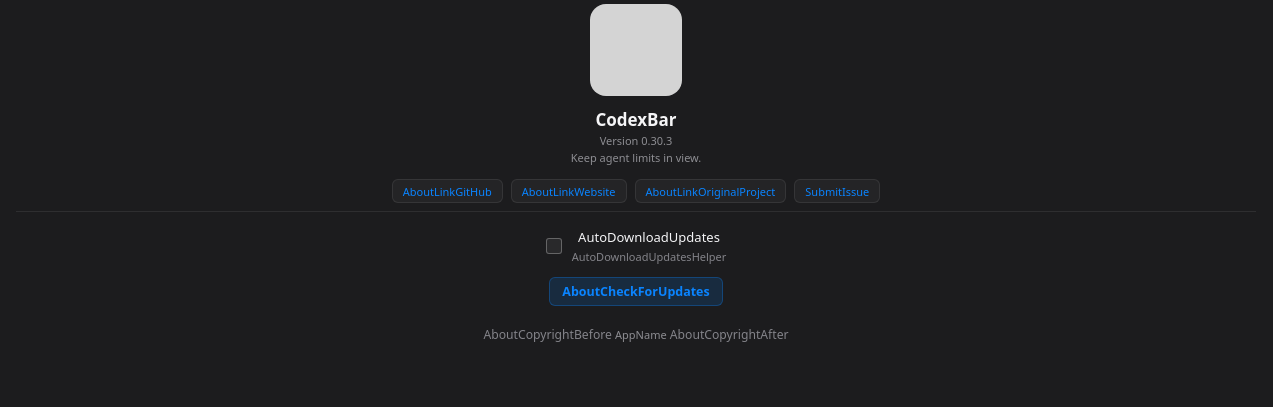
Test case: AboutTab › shows a link error if the OS browser launch fails
The image size is (1273, 407).
Step 1. Click the button "AboutLinkWebsite" → click(569, 191), box x1=511 y1=179 x2=626 y2=203
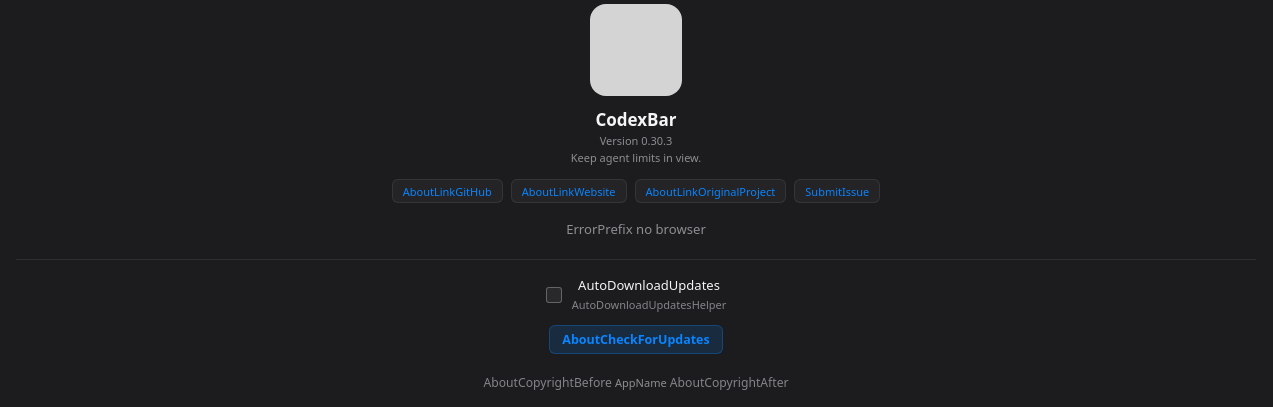
Check: the text "ErrorPrefix no browser" is shown, box x1=566 y1=220 x2=706 y2=238
